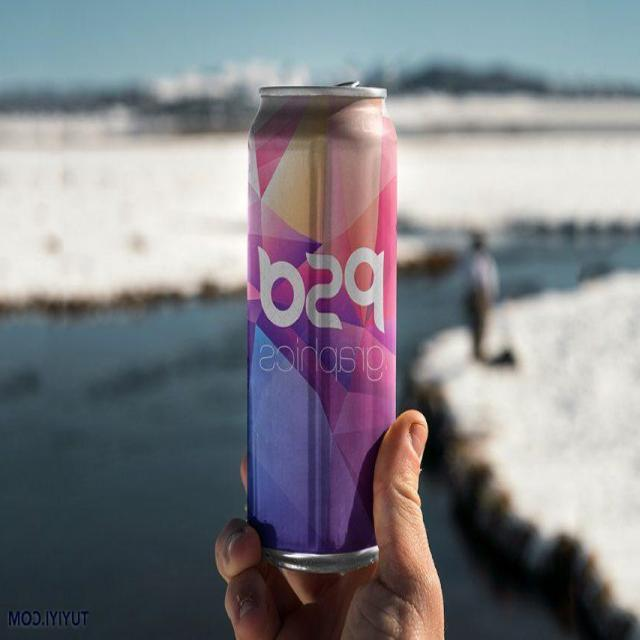metal: (248, 86, 396, 571)
